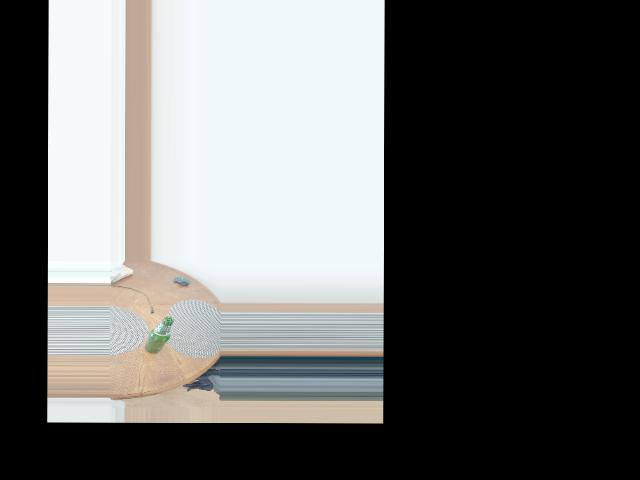beer: (143, 316, 173, 354)
